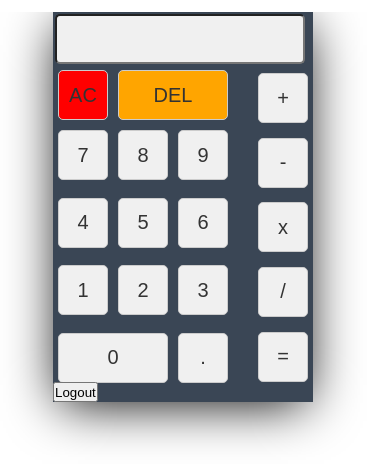
Test: Calculator testing › Calculate
Step 1. Click the button "+" → coordinates (283, 98), box [258,73,308,123]
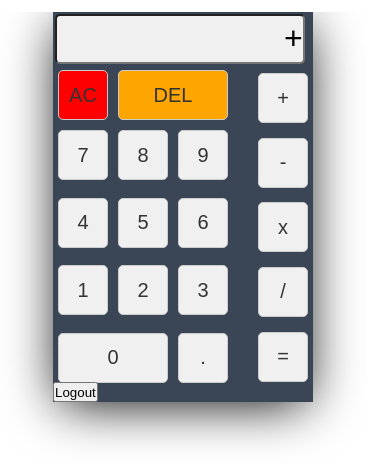
Check: the field holds "+", box [55,14,305,64]
